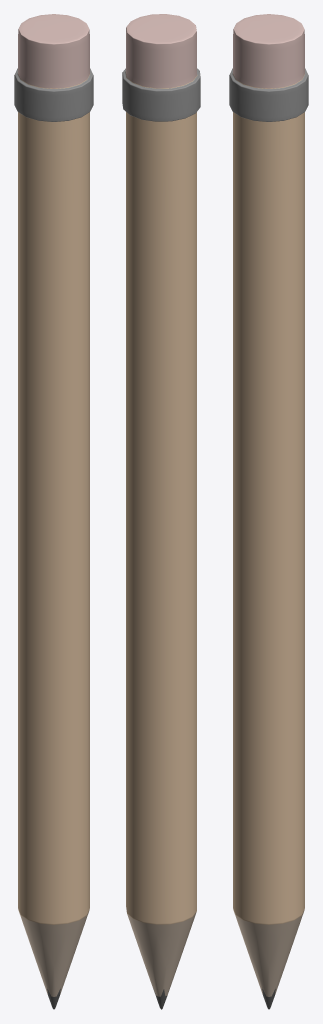
File: pencil_shaded_v001.fbx
3 views of the same model, side by side, from view 1: azimuth 90°, elevation 25°; view 2: azimuth 150°, elevation 25°; view 3: azimuth 270°, elevation 25° (orthographic).
Visible parts, largest first — view 1: pencil_geo; view 2: pencil_geo; view 3: pencil_geo.
Part boxes in pixels (x1=…): pencil_geo: x1=14, y1=14, x2=93, y2=1009; pencil_geo: x1=122, y1=14, x2=200, y2=1009; pencil_geo: x1=229, y1=14, x2=308, y2=1009.
Bounding box in the file's own units: 1.2 × 16.3 × 1.2.
